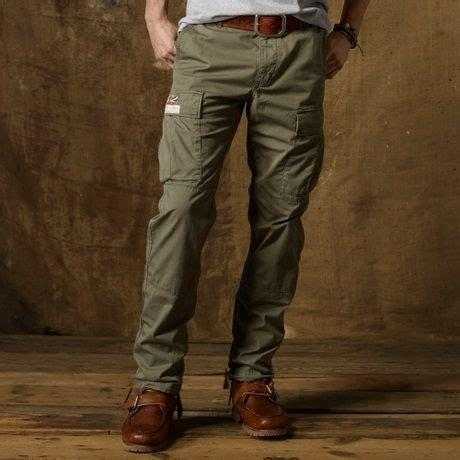pants: (134, 16, 326, 398)
